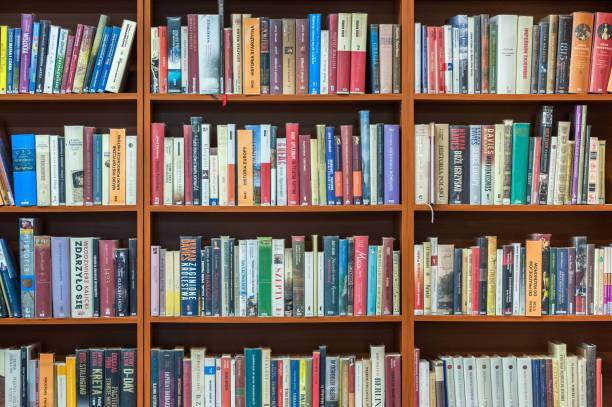book: (104, 18, 137, 93), (568, 13, 595, 92), (18, 217, 38, 318), (492, 15, 517, 94), (10, 133, 37, 206), (69, 237, 93, 318), (198, 14, 221, 92), (179, 235, 201, 315), (71, 24, 96, 93), (64, 125, 85, 206), (51, 236, 70, 318), (570, 106, 586, 203), (511, 123, 530, 204), (448, 125, 467, 204), (553, 121, 571, 204), (34, 236, 52, 318), (98, 238, 116, 317), (525, 239, 543, 316), (350, 14, 367, 94), (383, 124, 400, 204), (516, 16, 533, 93), (109, 128, 126, 205), (414, 124, 430, 204), (353, 236, 369, 316), (323, 235, 339, 315), (237, 129, 253, 206), (244, 17, 260, 94), (42, 26, 60, 94), (548, 341, 567, 405), (434, 123, 449, 204), (35, 135, 52, 206), (437, 243, 454, 314), (257, 236, 272, 316), (336, 14, 351, 94), (18, 14, 33, 92), (571, 237, 586, 314), (150, 122, 164, 204), (167, 16, 182, 92), (340, 124, 354, 205), (482, 124, 496, 204), (475, 236, 489, 315), (359, 110, 371, 202), (190, 115, 202, 204), (286, 123, 299, 205), (291, 234, 304, 316), (244, 348, 262, 407), (4, 347, 22, 406), (308, 13, 321, 93), (272, 238, 285, 317), (381, 236, 394, 315), (469, 125, 482, 204), (324, 125, 337, 204), (379, 22, 393, 94), (501, 121, 513, 204), (501, 245, 515, 316), (124, 135, 138, 205), (295, 18, 308, 93), (486, 235, 498, 316), (282, 19, 295, 93), (259, 124, 271, 204), (493, 124, 505, 204), (384, 353, 402, 406), (231, 14, 243, 93), (370, 344, 385, 407), (190, 347, 206, 406), (83, 127, 95, 205), (298, 135, 311, 205), (200, 123, 211, 204), (221, 236, 232, 317), (530, 136, 543, 204), (583, 343, 597, 406), (217, 124, 228, 204), (328, 14, 339, 94), (211, 236, 222, 316), (247, 238, 258, 317), (369, 125, 380, 204), (316, 125, 327, 204), (516, 356, 533, 407), (38, 352, 54, 406), (587, 138, 600, 204), (338, 237, 349, 315), (366, 245, 378, 316), (475, 356, 492, 406), (467, 17, 478, 93), (427, 237, 438, 313), (441, 355, 457, 407), (557, 248, 569, 315), (546, 137, 558, 204), (421, 241, 432, 314), (501, 356, 517, 406), (183, 124, 193, 204), (92, 132, 103, 204), (49, 136, 60, 206), (452, 356, 467, 407), (238, 240, 248, 316), (488, 17, 498, 93), (489, 356, 504, 406), (594, 246, 605, 314), (173, 137, 184, 205), (310, 234, 319, 316), (163, 137, 174, 204), (276, 138, 287, 205), (426, 27, 437, 94), (227, 125, 236, 206), (512, 243, 522, 315), (413, 244, 423, 315), (463, 356, 477, 406), (150, 245, 160, 315), (101, 134, 111, 204), (585, 244, 595, 314), (443, 24, 453, 93), (471, 247, 481, 316), (283, 248, 293, 317), (203, 354, 216, 407), (436, 26, 446, 94), (325, 355, 338, 407), (432, 359, 446, 407), (303, 250, 313, 316), (566, 355, 578, 407), (418, 359, 431, 406), (495, 249, 504, 316), (172, 250, 181, 316), (461, 249, 470, 315), (261, 348, 271, 407), (577, 354, 588, 407), (221, 355, 232, 407), (320, 31, 329, 94), (318, 346, 327, 407), (317, 250, 325, 316), (0, 27, 8, 93), (209, 149, 218, 206), (311, 351, 320, 407), (281, 357, 291, 407), (290, 358, 300, 407), (354, 358, 363, 406), (606, 246, 612, 313)
